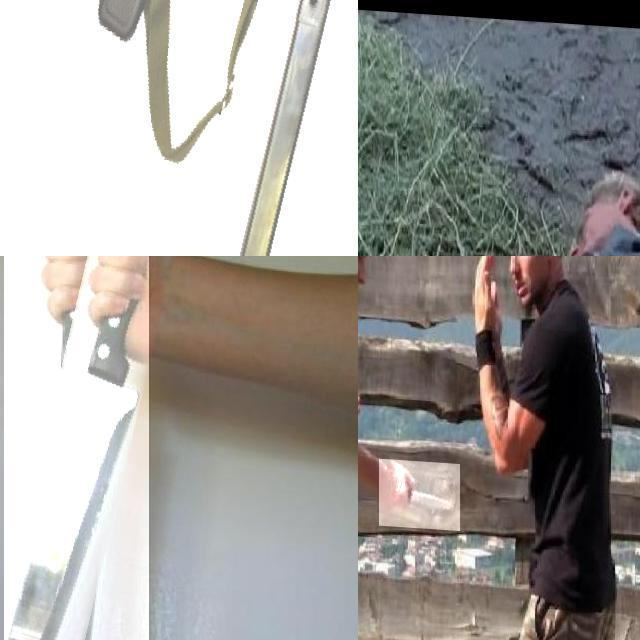-: (4, 256, 149, 640), (379, 454, 460, 525)
gun-knife-thesis - v11 Yolov5 augmented: (0, 0, 358, 256)
